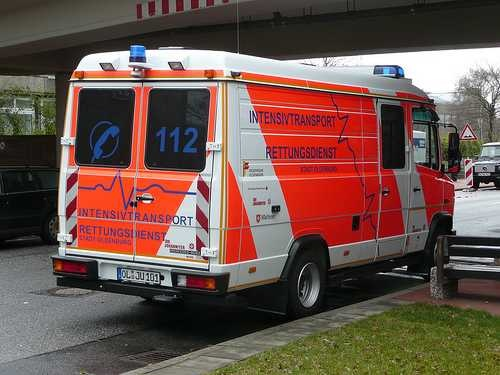Ambulance: (61, 42, 463, 292)
